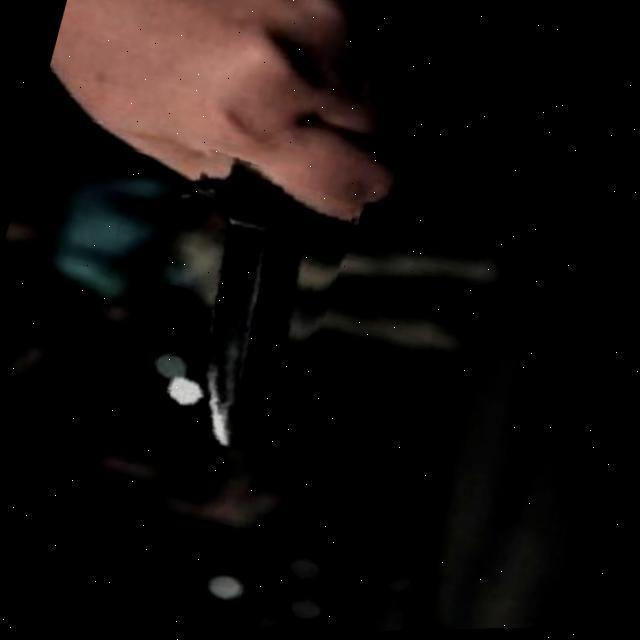knife: (114, 145, 363, 464)
